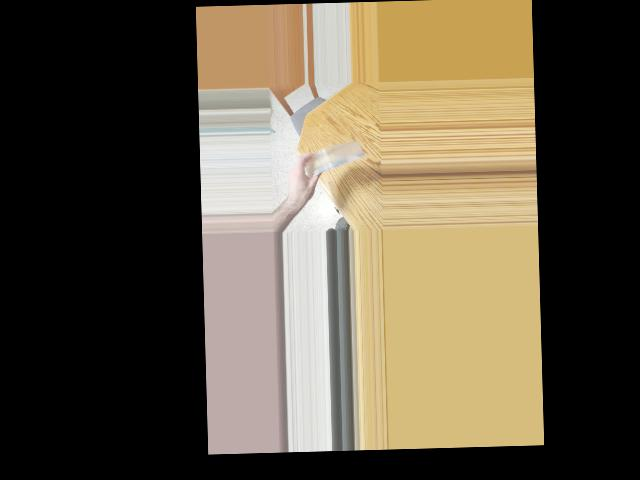cheese: (297, 144, 366, 170)
